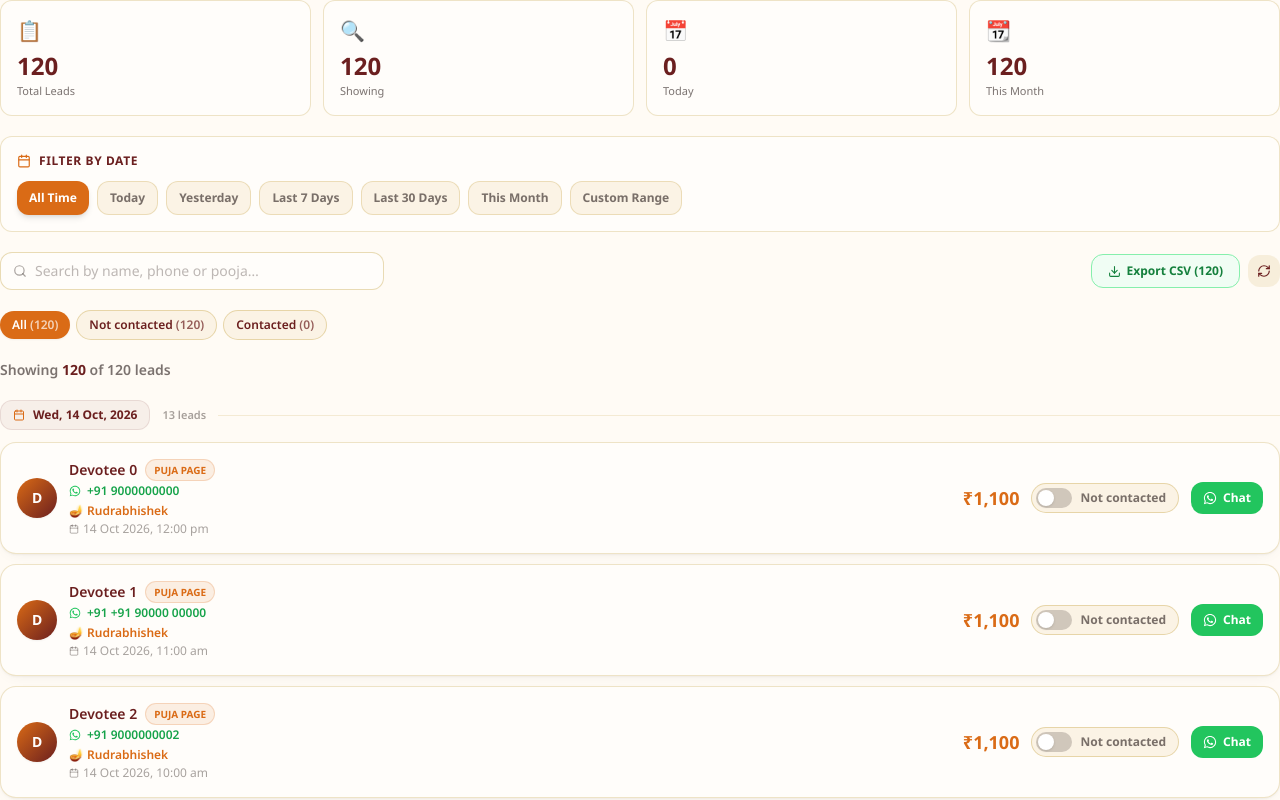
LeadManager › searches all leads, not only the drawn ones
This screenshot has width=1280, height=800.
Expected: the heading "Devotee 0" is shown, [69,460,137,480]
In the field with placeholder "Search by name, phone or pooja…": x=203, y=271 [35,261,371,281], type "devotee 117"
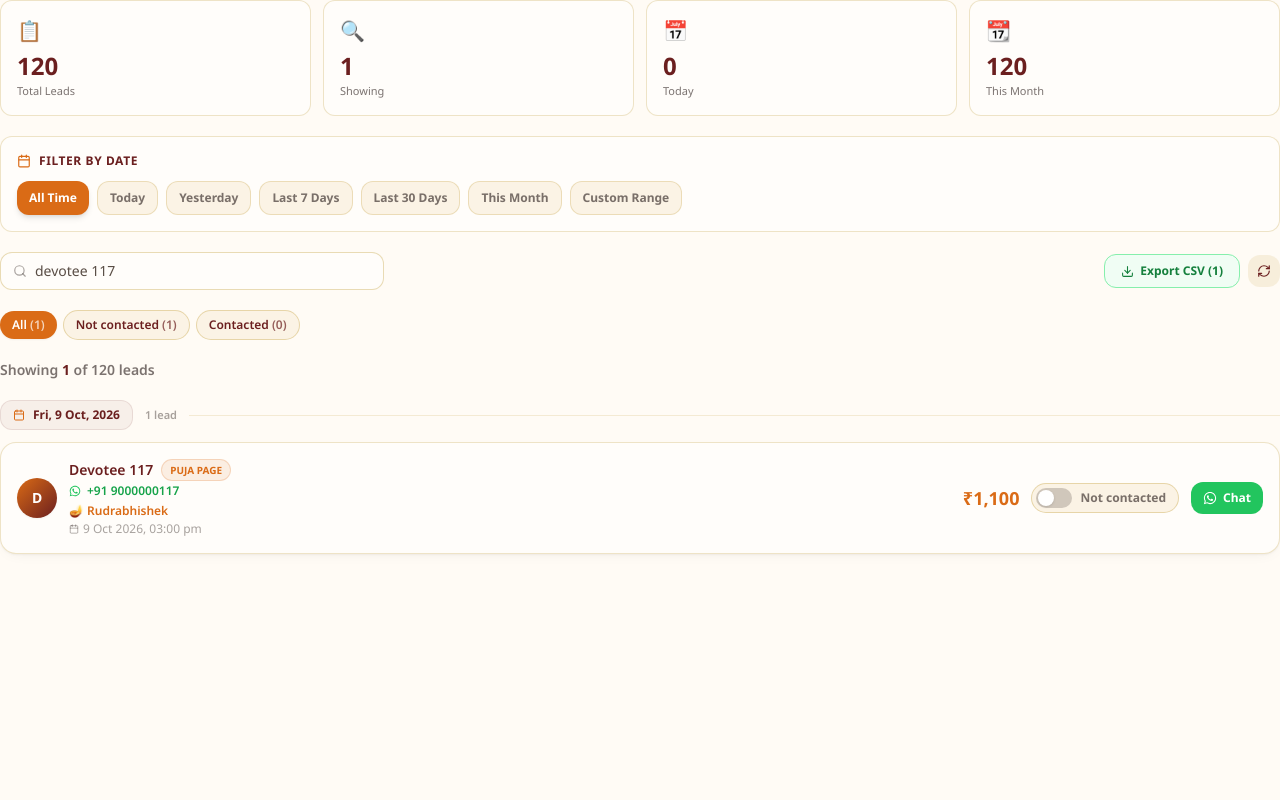
Now the heading "Devotee 117" is shown, box [69,460,153,480]
